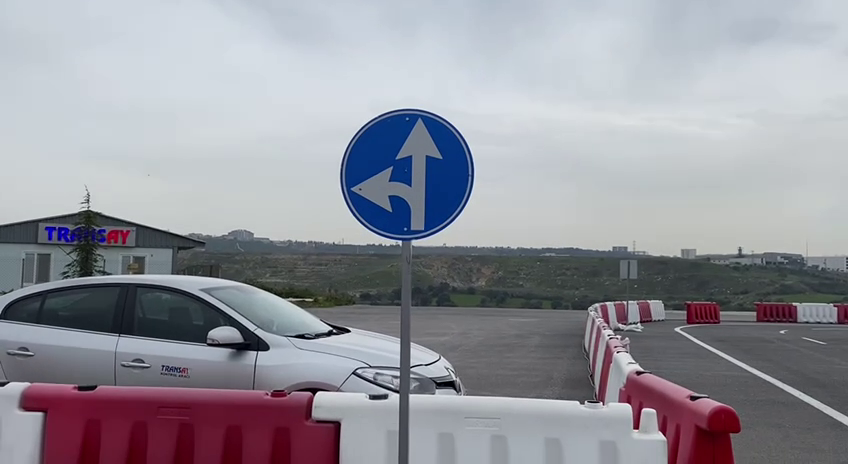forwardAndLeft: (336, 104, 478, 242)
